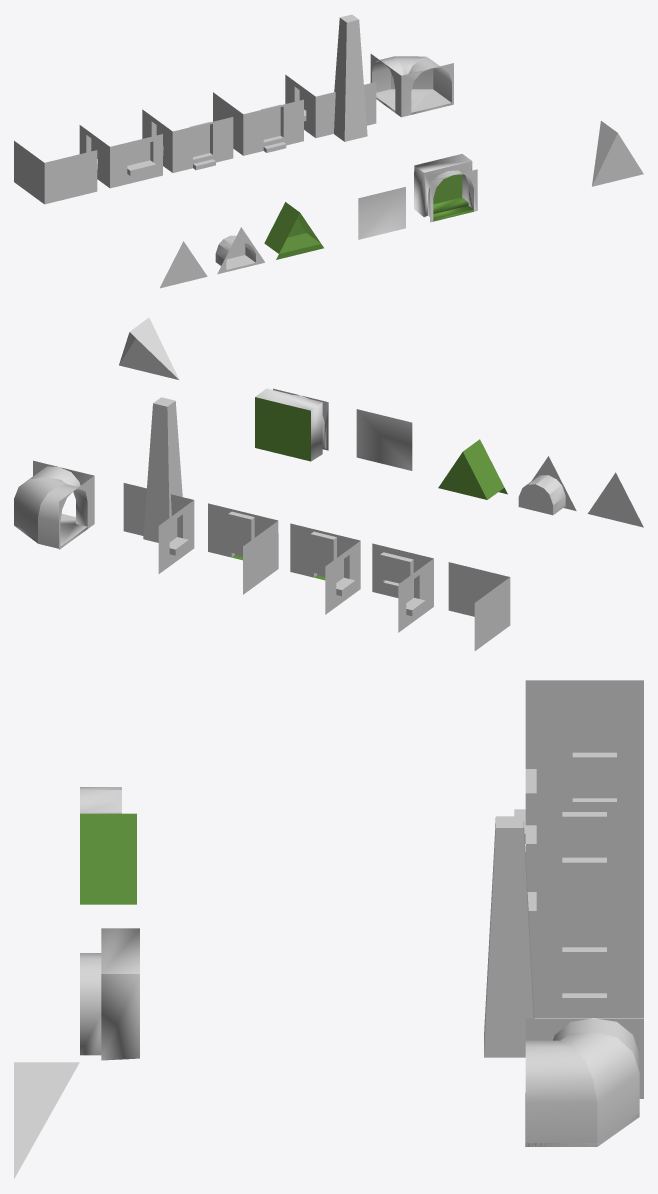
File: Casa_Detalls.fbx
3 renders of one model, top to bottom at view 1: azimuth 30°, elevation 25°; view 2: azimuth 150°, elevation 25°; view 3: azimuth 270°, elevation 25°, orthographic. The views are drawn at different scales.
Visible parts, largest first — view 1: DetallCantonada_5, DetallCantonada_6, DetallParet_2, DetallCantonada_1, DetallCantonada_3, DetallCantonada_4, DetallCantonada_2, DetallParet_1, DetallTeulada_1, DetallAltell_3, DetallAltell_2, DetallAltell_1; view 2: DetallCantonada_5, DetallCantonada_6, DetallParet_2, DetallCantonada_3, DetallCantonada_4, DetallCantonada_1, DetallCantonada_2, DetallParet_1, DetallAltell_3, DetallTeulada_1, DetallAltell_2, DetallAltell_1; view 3: DetallCantonada_5, DetallCantonada_6, DetallCantonada_4, DetallCantonada_3, DetallCantonada_1, DetallParet_2, DetallCantonada_2, DetallAltell_3, DetallTeulada_1, DetallAltell_2.
Part boxes in pixels (x1=…): DetallCantonada_5: x1=285, y1=14, x2=376, y2=141; DetallCantonada_6: x1=370, y1=54, x2=453, y2=117; DetallParet_2: x1=414, y1=154, x2=477, y2=222; DetallCantonada_1: x1=14, y1=141, x2=97, y2=204; DetallCantonada_3: x1=142, y1=109, x2=233, y2=172; DetallCantonada_4: x1=213, y1=92, x2=303, y2=155; DetallCantonada_2: x1=79, y1=125, x2=162, y2=188; DetallParet_1: x1=358, y1=187, x2=405, y2=239; DetallTeulada_1: x1=592, y1=121, x2=643, y2=186; DetallAltell_3: x1=264, y1=202, x2=323, y2=259; DetallAltell_2: x1=215, y1=227, x2=264, y2=274; DetallAltell_1: x1=160, y1=241, x2=207, y2=288; DetallCantonada_5: x1=123, y1=397, x2=194, y2=573; DetallCantonada_6: x1=14, y1=460, x2=94, y2=549; DetallParet_2: x1=255, y1=388, x2=328, y2=461; DetallCantonada_3: x1=290, y1=523, x2=360, y2=614; DetallCantonada_4: x1=208, y1=503, x2=278, y2=594; DetallCantonada_1: x1=448, y1=562, x2=510, y2=650; DetallCantonada_2: x1=372, y1=543, x2=433, y2=632; DetallParet_1: x1=356, y1=409, x2=412, y2=470; DetallAltell_3: x1=438, y1=439, x2=507, y2=499; DetallTeulada_1: x1=119, y1=317, x2=179, y2=380; DetallAltell_2: x1=518, y1=456, x2=576, y2=515; DetallAltell_1: x1=587, y1=472, x2=643, y2=527; DetallCantonada_5: x1=484, y1=816, x2=643, y2=1057; DetallCantonada_6: x1=525, y1=1018, x2=643, y2=1147; DetallCantonada_4: x1=526, y1=868, x2=643, y2=937; DetallCantonada_3: x1=525, y1=802, x2=643, y2=868; DetallCantonada_1: x1=525, y1=680, x2=643, y2=742; DetallParet_2: x1=80, y1=928, x2=139, y2=1060; DetallCantonada_2: x1=514, y1=742, x2=643, y2=843; DetallAltell_3: x1=80, y1=813, x2=136, y2=904; DetallTeulada_1: x1=14, y1=1062, x2=79, y2=1178; DetallAltell_2: x1=80, y1=787, x2=121, y2=813.
Size of the model in its own units: 235 by 55.61 by 141.
